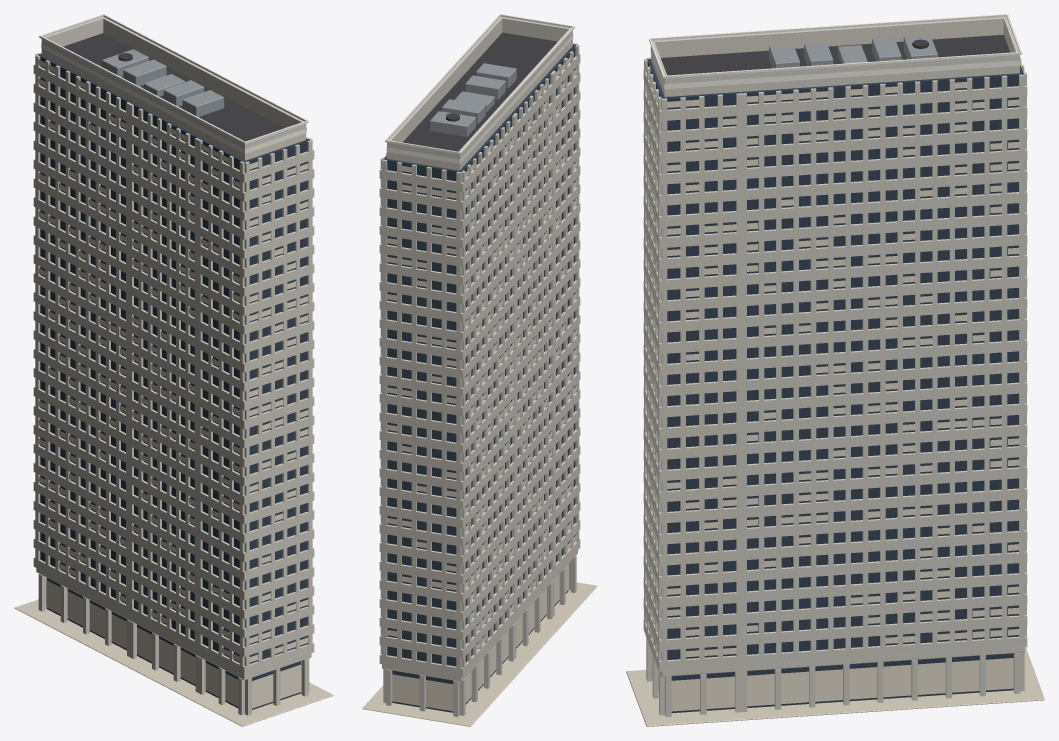
The model's file is 101-montgomery-street.glb.
3 renders of one model, left to right at view 1: azimuth 30°, elevation 25°; view 2: azimuth 150°, elevation 25°; view 3: azimuth 270°, elevation 25°, orthographic. The views are drawn at different scales.
Parts seen in each view (by area): view 1: 101-montgomery-street_body, 101-montgomery-street_night_glow; view 2: 101-montgomery-street_body, 101-montgomery-street_night_glow; view 3: 101-montgomery-street_body, 101-montgomery-street_night_glow.
Boxes of the visible parts, x1=… form: 101-montgomery-street_body: x1=14, y1=14, x2=333, y2=726; 101-montgomery-street_night_glow: x1=38, y1=43, x2=308, y2=708; 101-montgomery-street_body: x1=362, y1=14, x2=597, y2=726; 101-montgomery-street_night_glow: x1=386, y1=34, x2=577, y2=711; 101-montgomery-street_body: x1=626, y1=14, x2=1044, y2=726; 101-montgomery-street_night_glow: x1=645, y1=47, x2=1021, y2=711.
Bounding box in the file's own units: 33.75 × 123 × 72.91.
